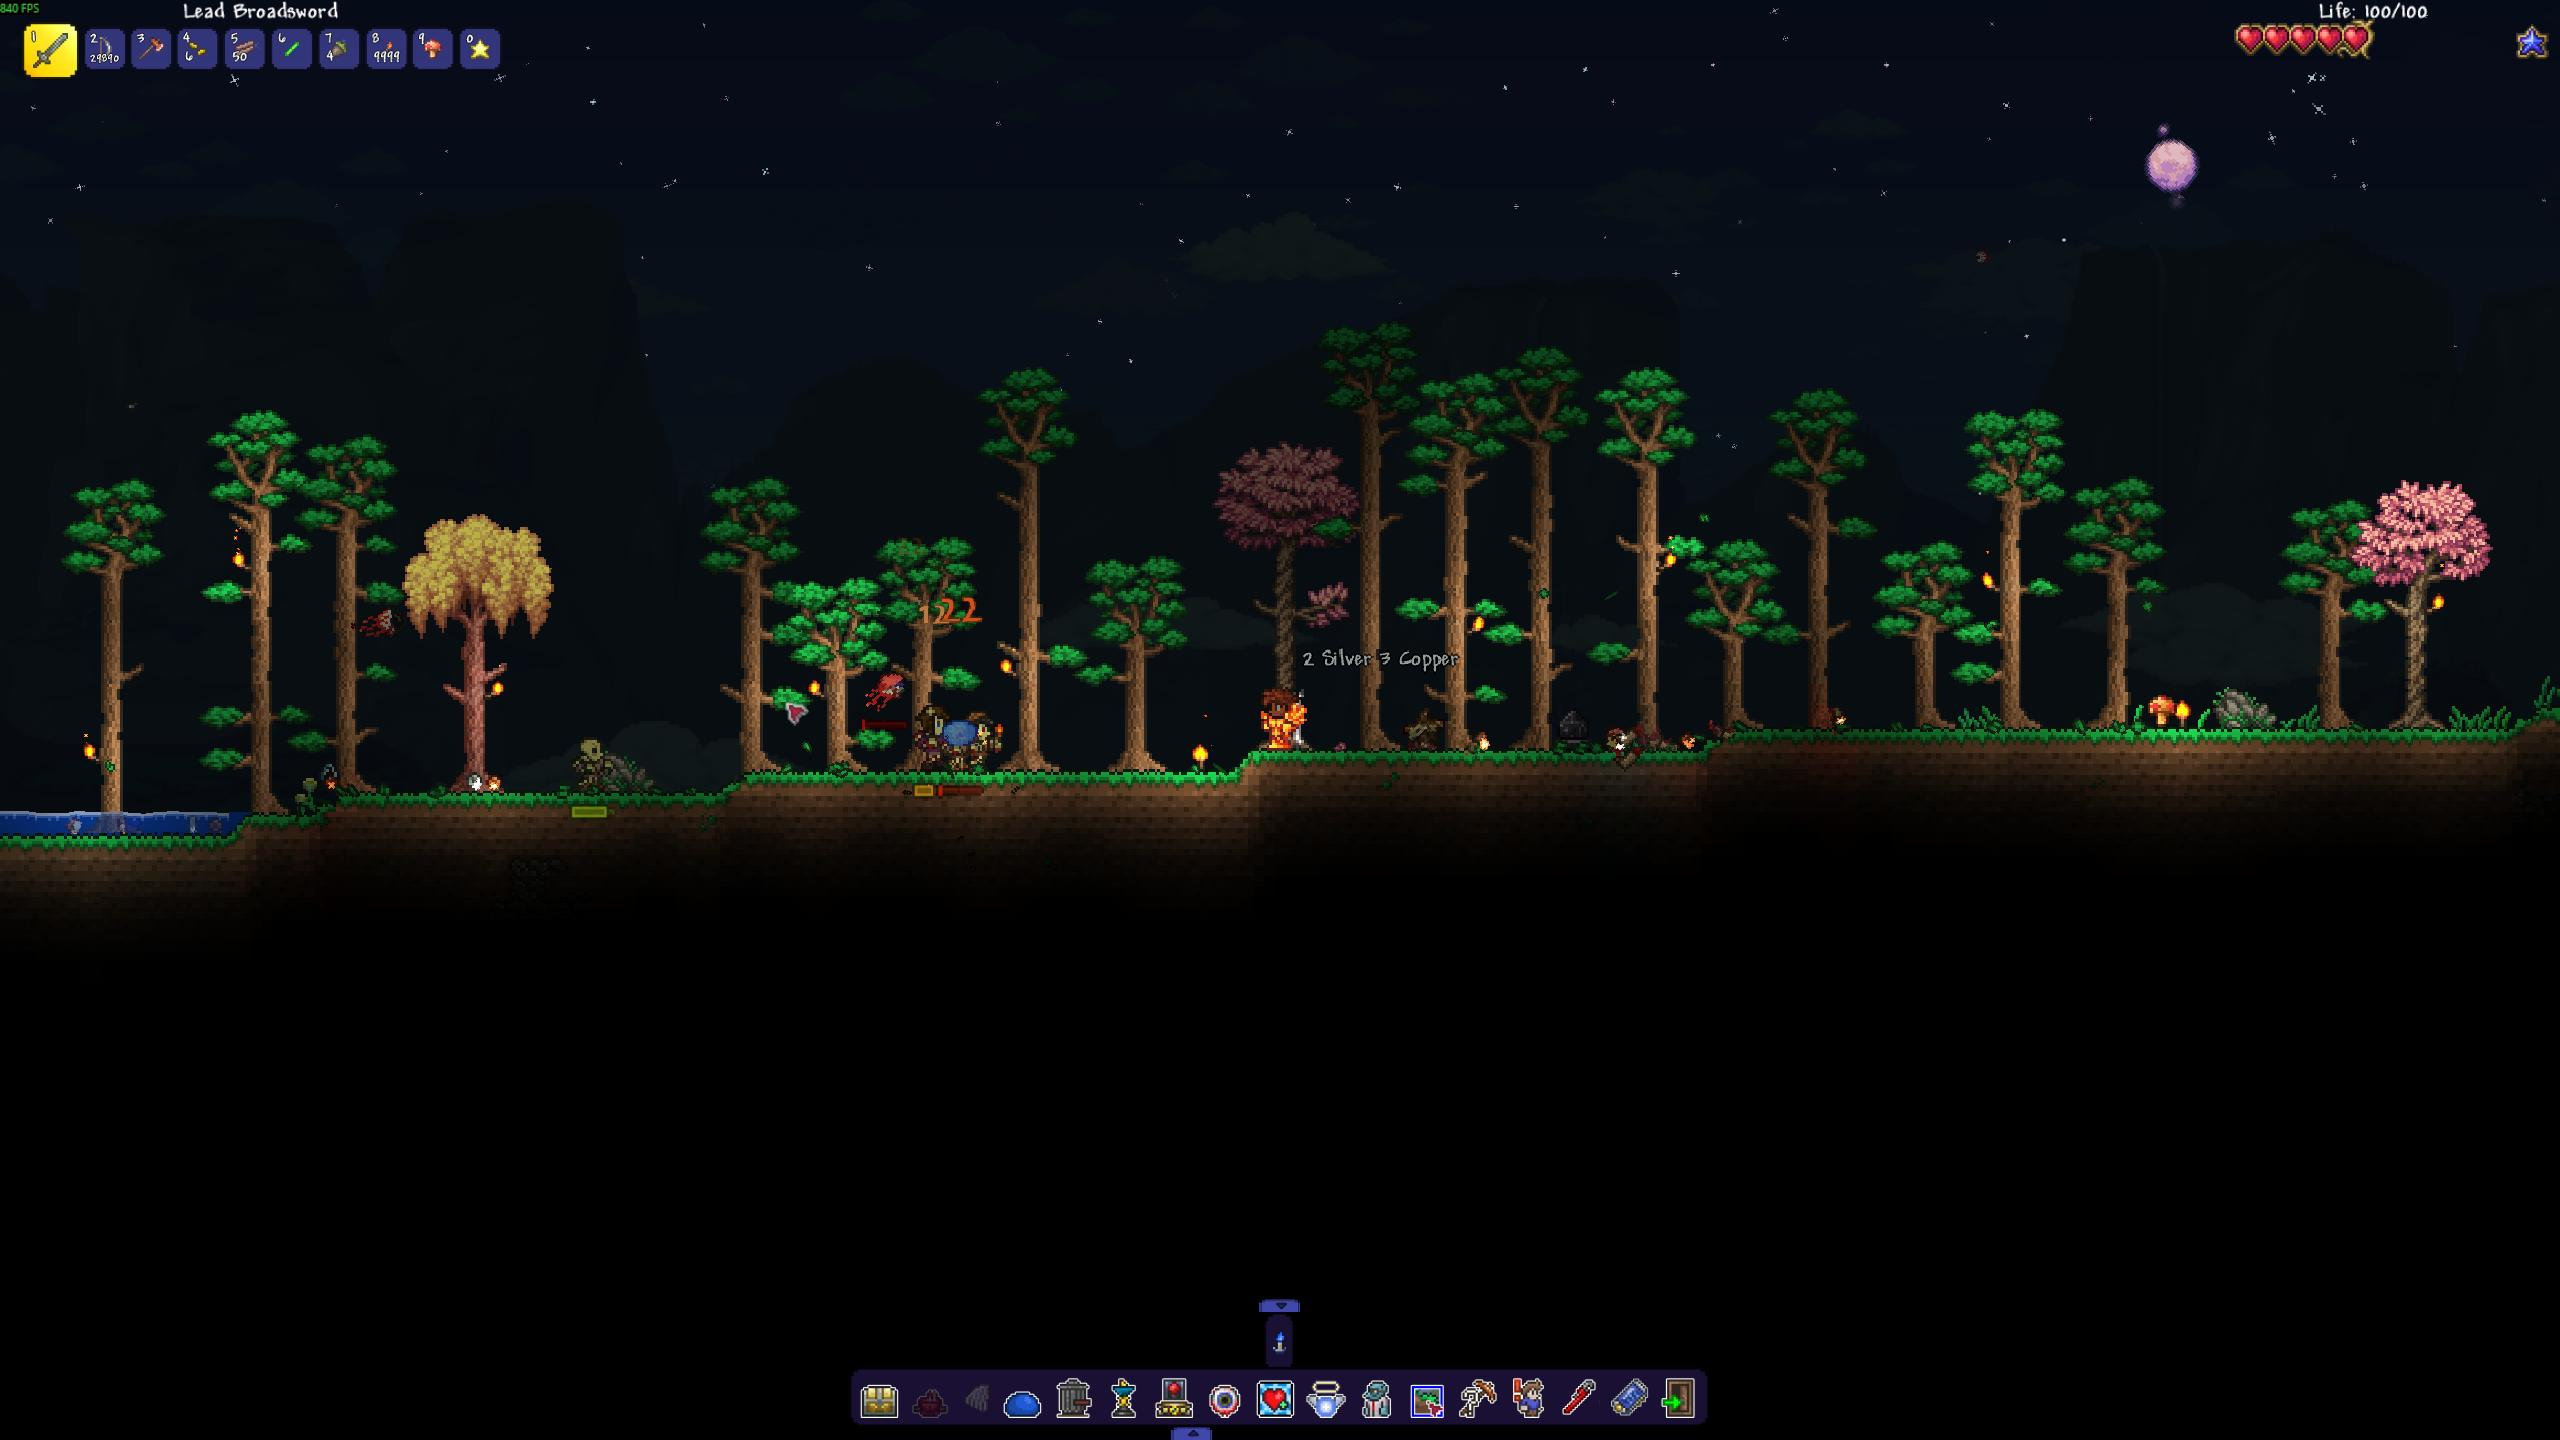Demon Eye: (858, 668, 909, 714), (352, 605, 406, 642)
Zombie: (566, 731, 612, 795), (967, 709, 1009, 772), (916, 702, 951, 772), (944, 716, 976, 772)
